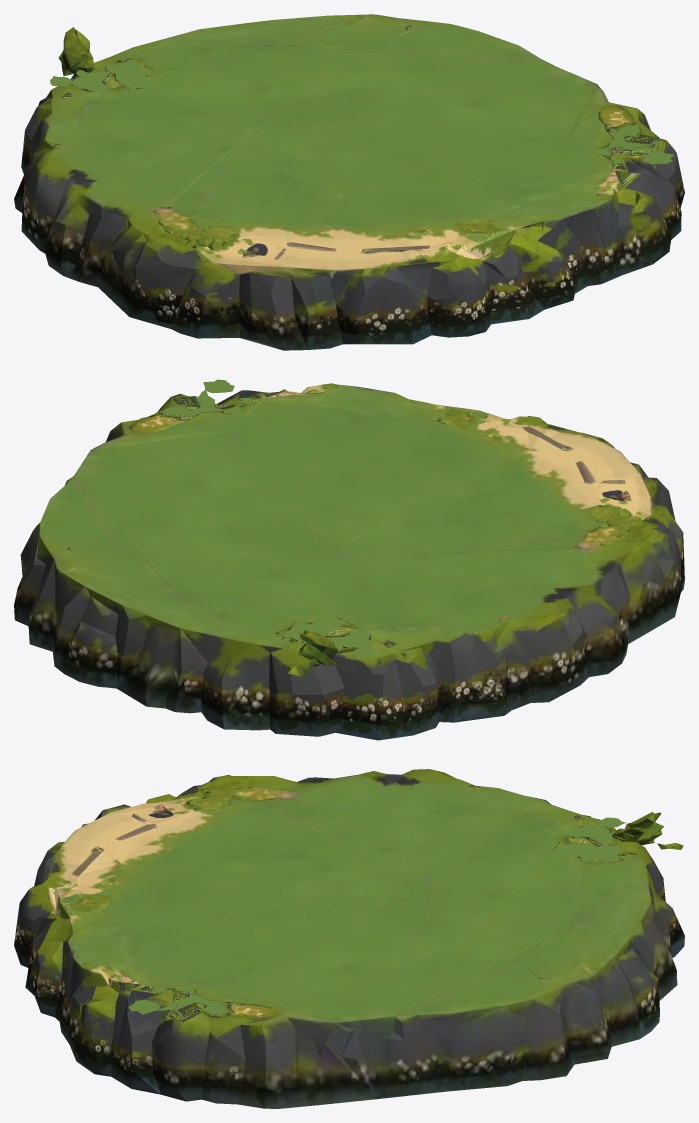
The model's file is island.glb.
3 renders of one model, top to bottom at view 1: azimuth 30°, elevation 25°; view 2: azimuth 150°, elevation 25°; view 3: azimuth 270°, elevation 25°, orthographic. The views are drawn at different scales.
Visible parts, largest first — view 1: island; view 2: island; view 3: island.
Boxes of the visible parts, left/top/right/bottom form: island: left=14, top=14, right=684, bottom=350; island: left=14, top=379, right=684, bottom=740; island: left=14, top=769, right=684, bottom=1108.
Bounding box in the file's own units: 1.85 × 0.3212 × 1.9.
Materials: 1 (1 with a texture image).
